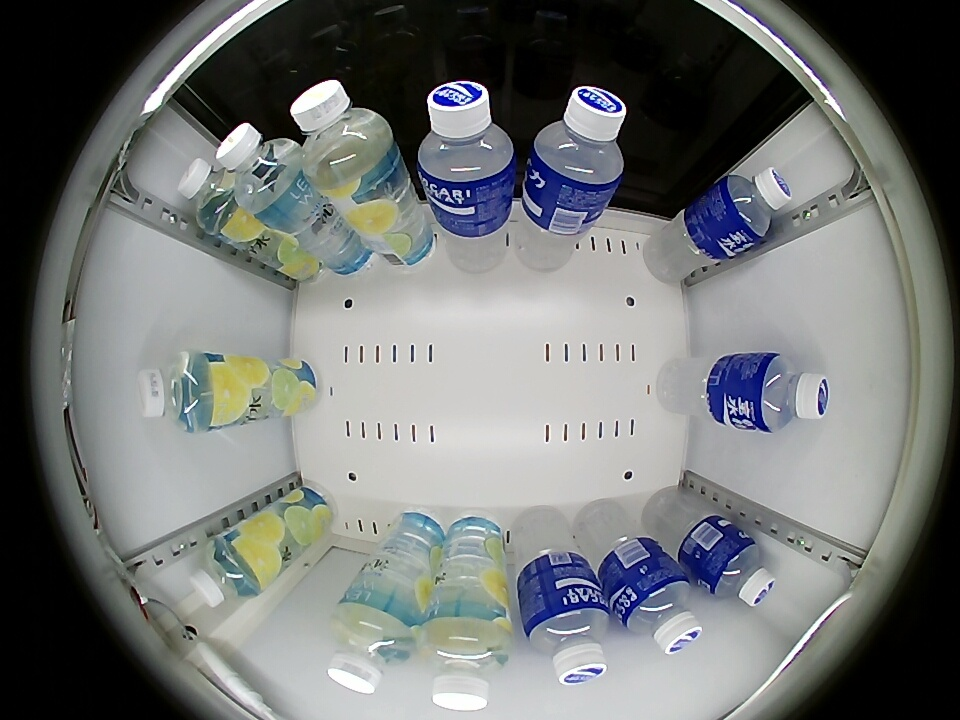baokuangli: (415, 80, 516, 201), (526, 86, 626, 203), (521, 588, 609, 686), (615, 566, 702, 655), (743, 351, 830, 434), (712, 167, 793, 248), (701, 532, 777, 607)
qinningshui: (290, 78, 395, 194), (416, 613, 513, 712), (328, 596, 416, 696), (216, 123, 303, 210), (136, 350, 222, 434), (190, 533, 268, 607), (179, 157, 247, 236)
